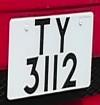1: (49, 51, 60, 93), (41, 53, 52, 94)
2: (57, 48, 81, 91)
3: (22, 54, 41, 95)
T: (30, 15, 55, 56)
Y: (51, 14, 72, 55)
